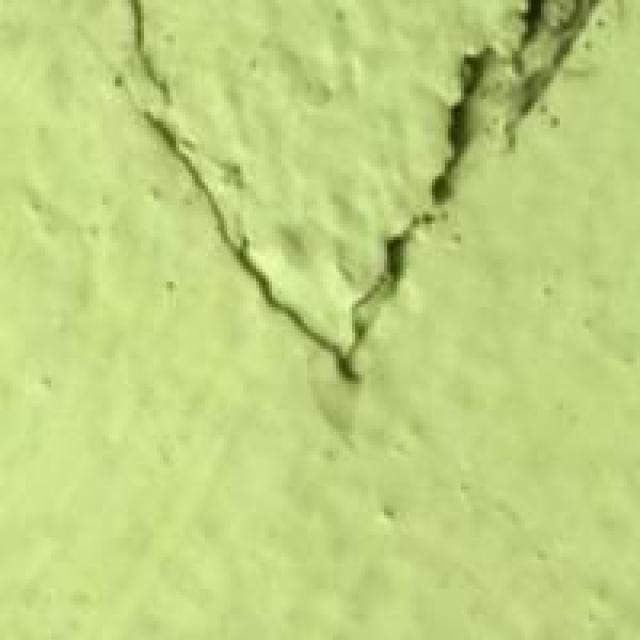crack: (109, 0, 602, 410)
